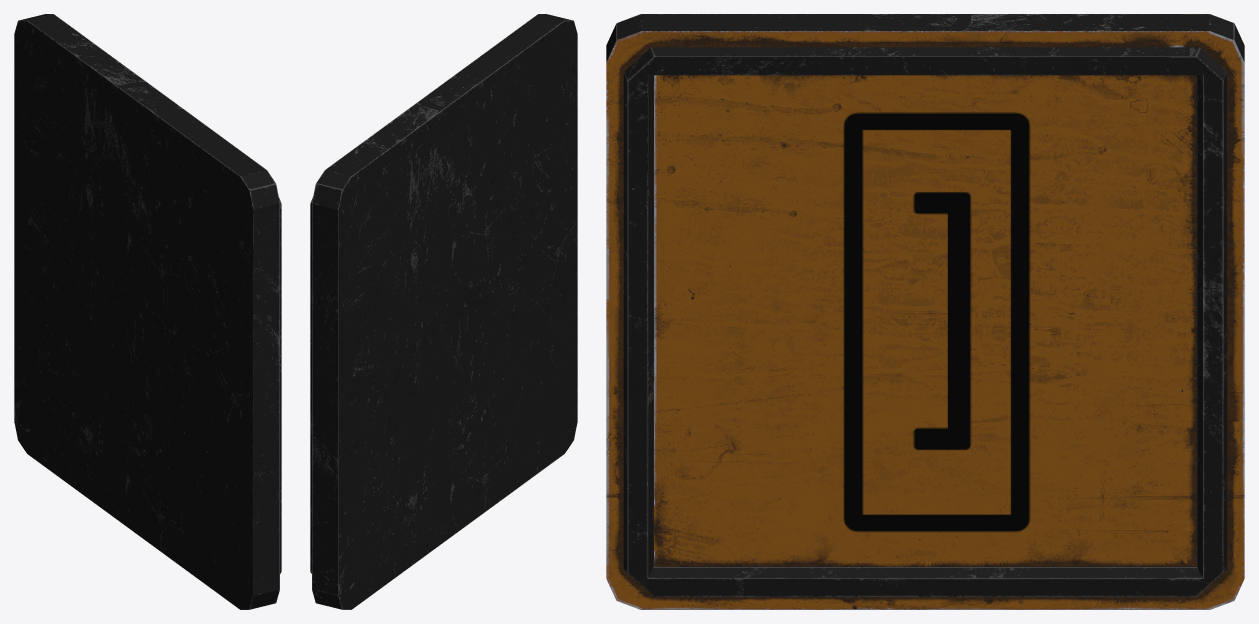
File: Space.gltf
3 renders of one model, left to right at view 1: azimuth 30°, elevation 25°; view 2: azimuth 150°, elevation 25°; view 3: azimuth 270°, elevation 25°, orthographic. The views are drawn at different scales.
Visible parts, largest first — view 1: Cube.009; view 2: Cube.009; view 3: Cube.009.
Part boxes in pixels (box(x1,y1,x2,y2)): Cube.009: box(14, 14, 281, 609); Cube.009: box(310, 14, 577, 609); Cube.009: box(606, 14, 1244, 609).
Bounding box in the file's own units: 0.1759 × 2 × 2.
Materials: 1 (1 with a texture image).
